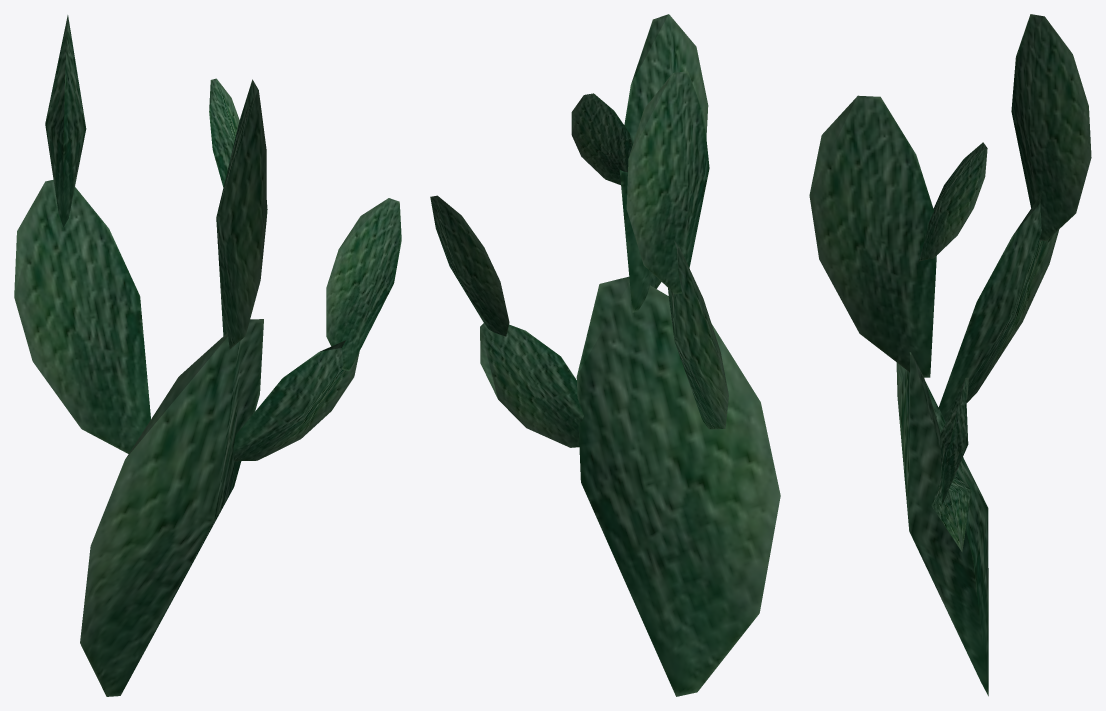
The model's file is pir_m_prp_vol_cactus_d.fbx.
3 renders of one model, left to right at view 1: azimuth 30°, elevation 25°; view 2: azimuth 150°, elevation 25°; view 3: azimuth 270°, elevation 25°, orthographic. The views are drawn at different scales.
Parts seen in each view (by area): view 1: leaf2, leaf12, leaf3, leaf11, leaf7, leaf9, leaf10; view 2: leaf2, leaf9, leaf7, leaf3, leaf12, leaf11, leaf10; view 3: leaf3, leaf2, leaf9, leaf12, leaf10, leaf11, leaf7.
Boxes of the visible parts, x1,y1,x2,y2 form: leaf2: (80, 319, 263, 696); leaf12: (14, 179, 150, 453); leaf3: (216, 79, 267, 349); leaf11: (326, 198, 401, 371); leaf7: (233, 340, 359, 461); leaf9: (45, 15, 86, 227); leaf10: (209, 78, 239, 187); leaf2: (576, 276, 780, 696); leaf9: (626, 71, 709, 294); leaf7: (480, 323, 583, 447); leaf3: (619, 14, 708, 312); leaf12: (668, 241, 728, 429); leaf11: (430, 195, 509, 336); leaf10: (571, 93, 632, 184); leaf3: (809, 95, 936, 377); leaf2: (896, 352, 988, 696); leaf9: (1011, 14, 1091, 241); leaf12: (938, 192, 1059, 421); leaf10: (919, 142, 987, 261); leaf11: (940, 377, 968, 504); leaf7: (931, 475, 971, 551).
Bounding box in the file's own units: 60.11 × 112 × 42.87.
Materials: 1 (1 with a texture image).
